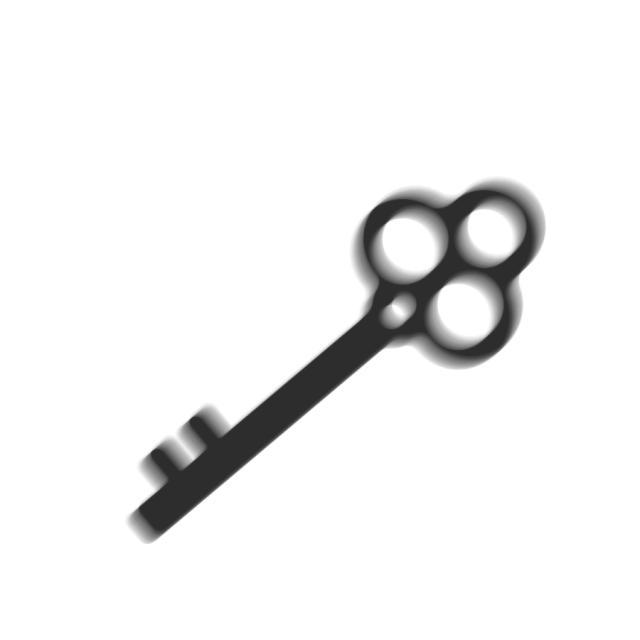key: (122, 173, 552, 555)
